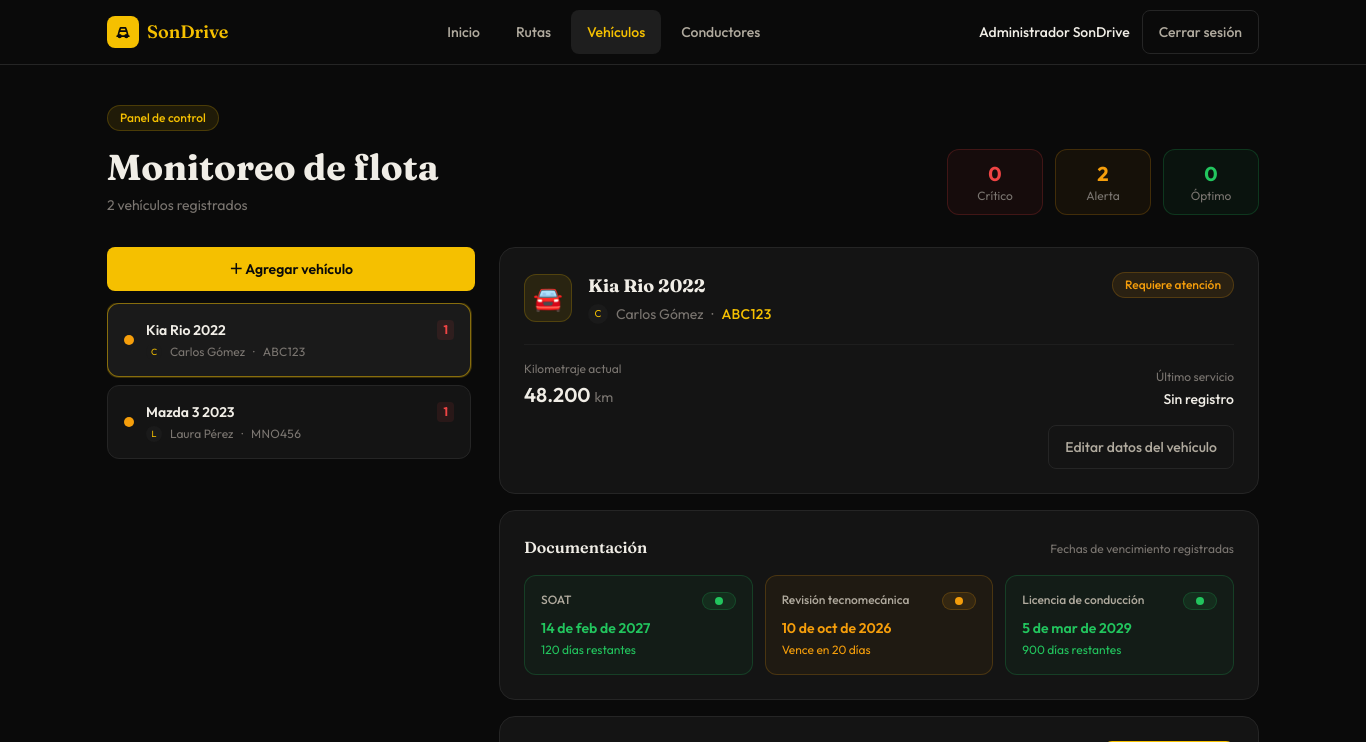
it: PaginaVehiculos › edición de los datos del vehículo › si el vehículo ya no existe vuelve a consultar la flota y conserva el formulario
Step 1. Click the button with aria-label "Editar datos del vehículo Kia Rio 2022 ABC123" → (1141, 447), box [1048,425,1234,469]
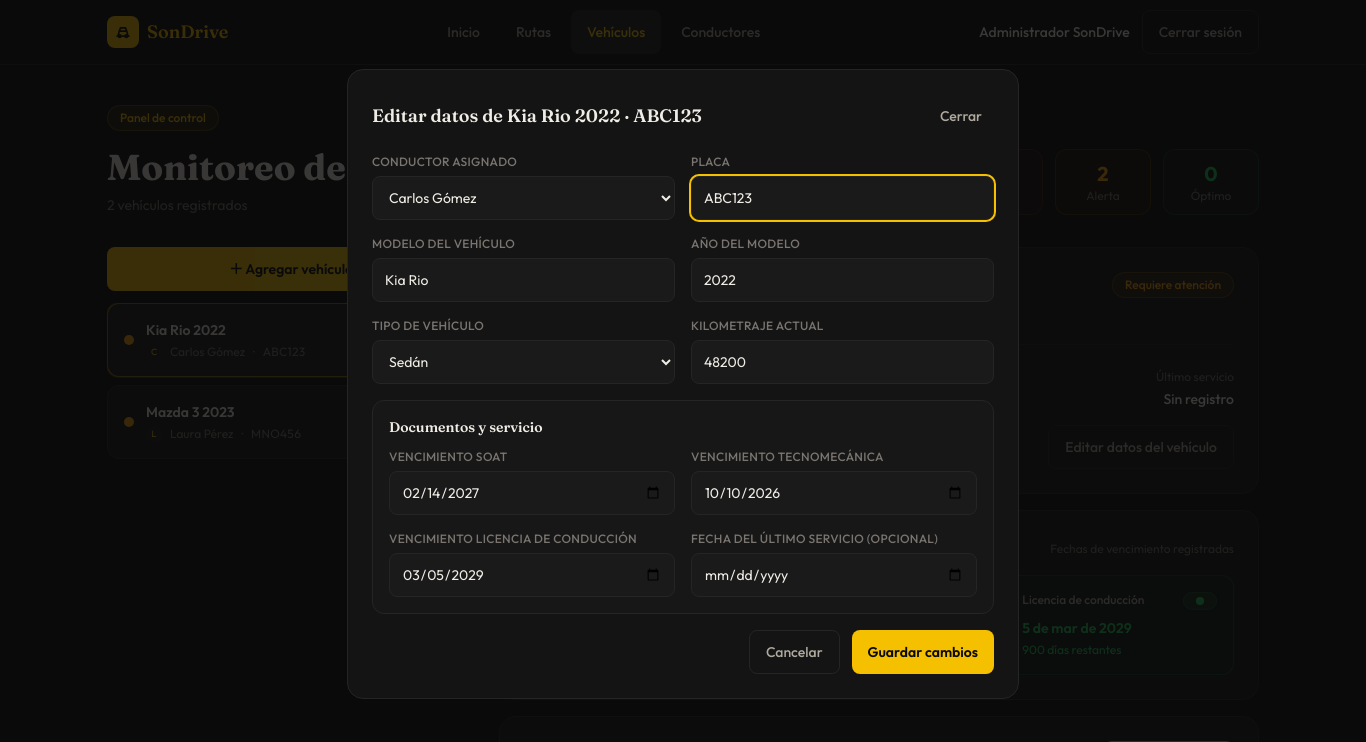
expect the button "Guardar cambios" is enabled: met, box [852,630,994,674]
Step 2. Replace the text in the number field labelled "Kilometraje actual" with "50000" → (842, 362), box [691,340,994,384]
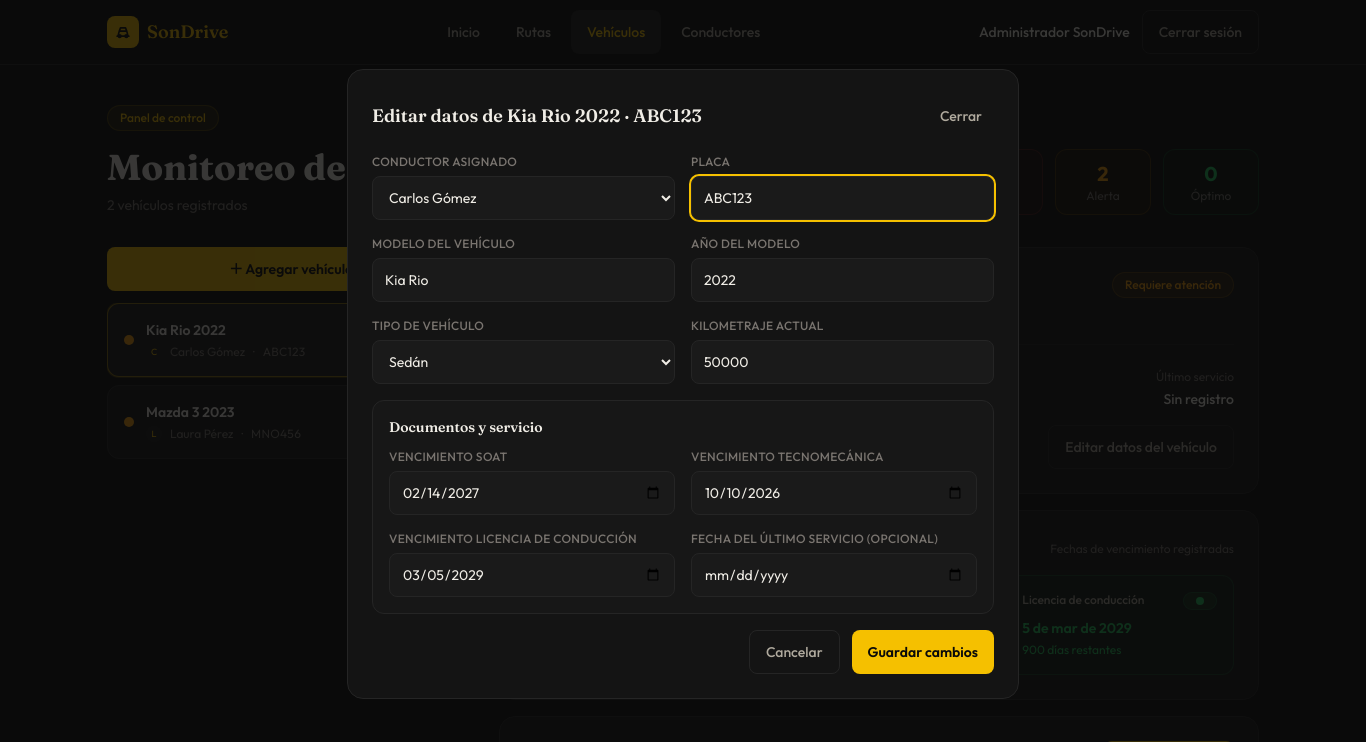
Step 3. Click the button "Guardar cambios" → (923, 652), box [852,630,994,674]
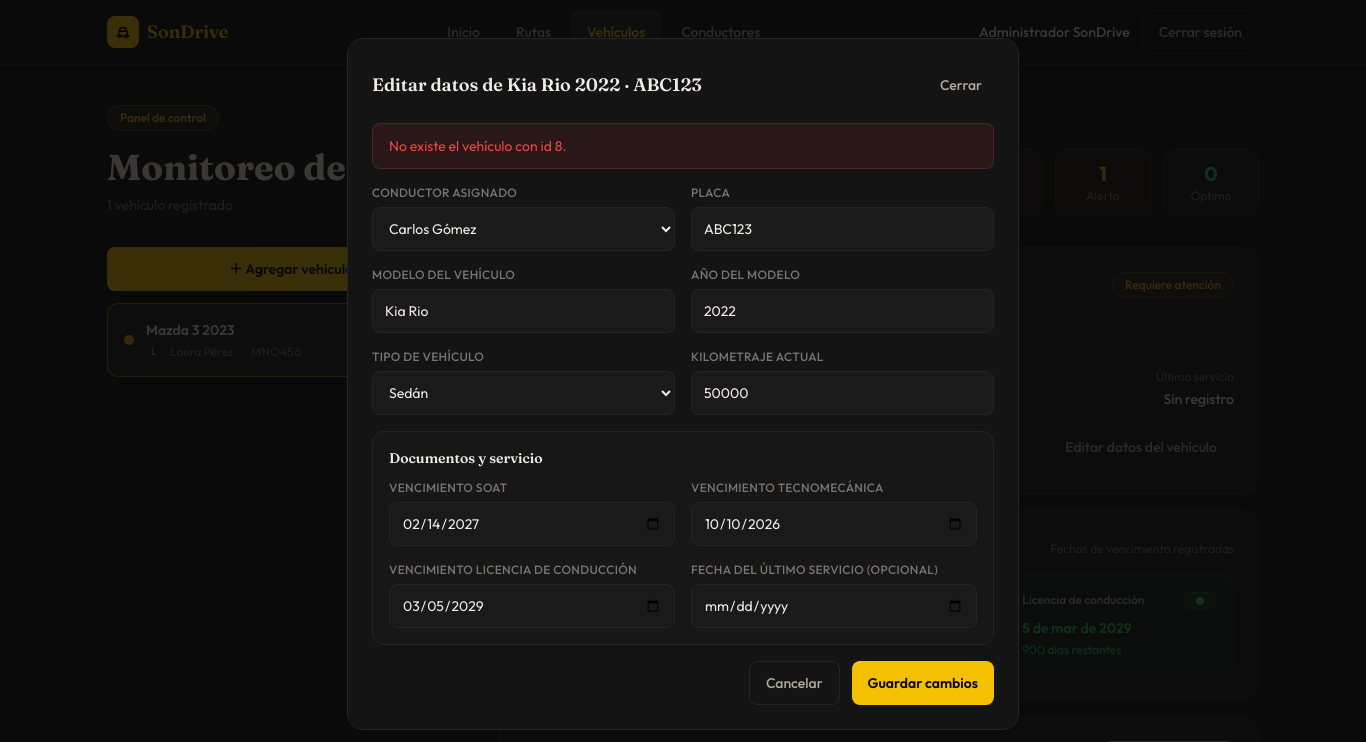
expect the text "No existe el vehículo con id 8." is shown: met, box [389,136,566,156]
expect the heading "Mazda 3 2023" is shown: met, box [588,274,711,297]
